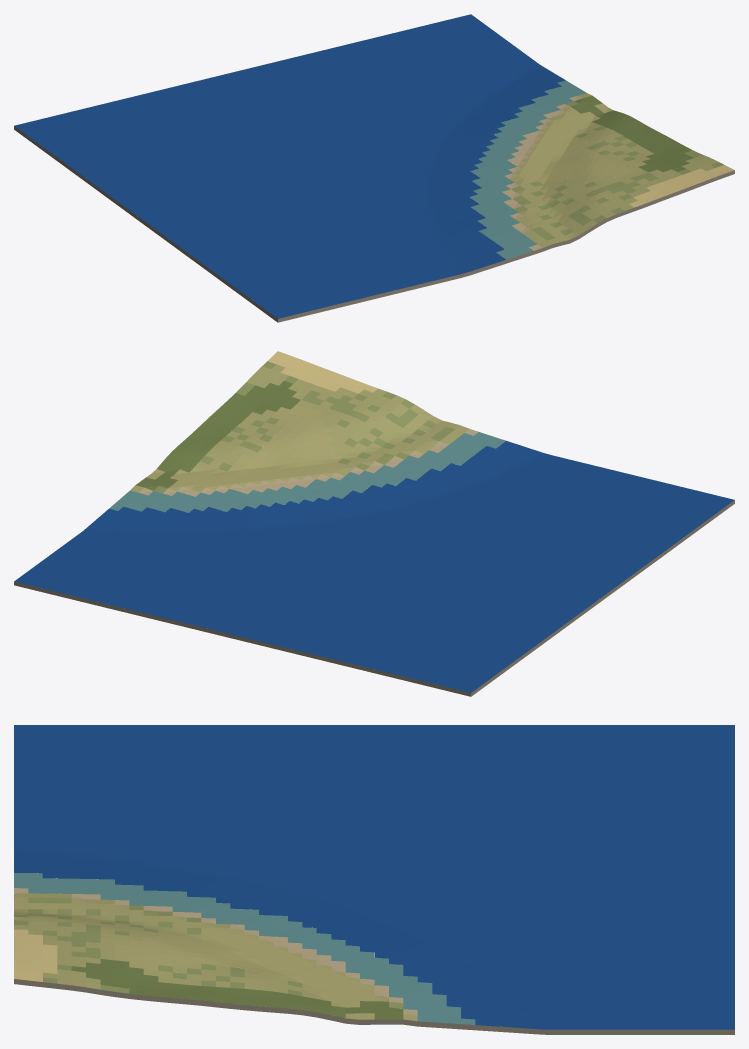
Rendered from parca_-1_+2-uzak.glb.
3 views of the same model, one above another, from view 1: azimuth 30°, elevation 25°; view 2: azimuth 150°, elevation 25°; view 3: azimuth 270°, elevation 25° (orthographic). The views are drawn at different scales.
Parts seen in each view (by area): view 1: parca_-1_+2_arazi_uzak; view 2: parca_-1_+2_arazi_uzak; view 3: parca_-1_+2_arazi_uzak.
Boxes of the visible parts, x1,y1,x2,y2 form: parca_-1_+2_arazi_uzak: (14, 14, 734, 322); parca_-1_+2_arazi_uzak: (14, 351, 734, 696); parca_-1_+2_arazi_uzak: (14, 725, 734, 1034).
Bounding box in the file's own units: 1000 × 85.88 × 1000.
